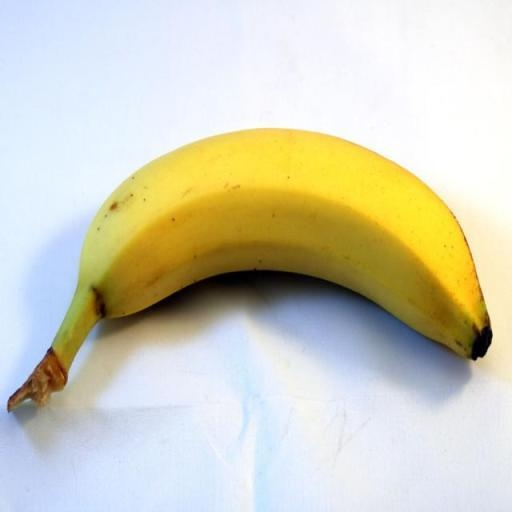fruit: (476, 167, 504, 512)
